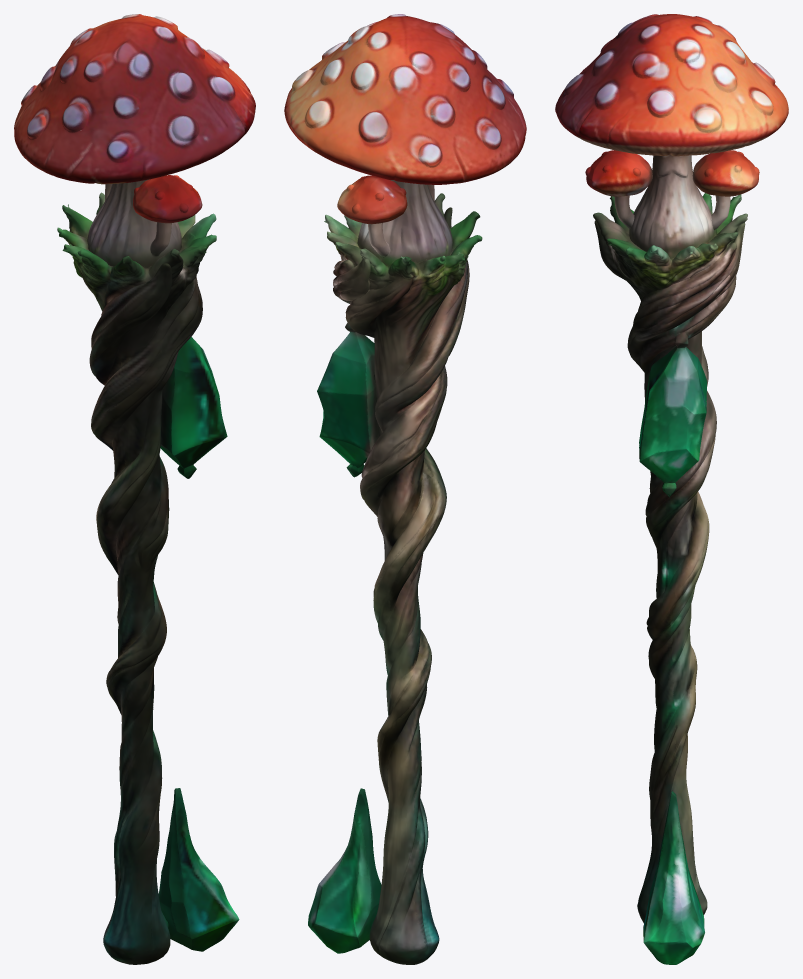
File: staff_fantasy_4.glb
3 renders of one model, left to right at view 1: azimuth 30°, elevation 25°; view 2: azimuth 150°, elevation 25°; view 3: azimuth 270°, elevation 25°, orthographic. The views are drawn at different scales.
Parts seen in each view (by area): view 1: staff_fantasy_4.glb_4; view 2: staff_fantasy_4.glb_4; view 3: staff_fantasy_4.glb_4.
Part boxes in pixels (x1,y1,x2,y2): staff_fantasy_4.glb_4: (14, 14, 255, 964); staff_fantasy_4.glb_4: (284, 14, 526, 964); staff_fantasy_4.glb_4: (555, 14, 788, 964).
Bounding box in the file's own units: 0.4049 × 1.75 × 0.4049.
Materials: 1 (1 with a texture image).
